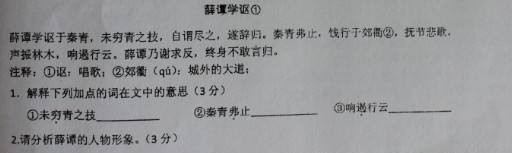text: (24, 101, 460, 123), (5, 24, 448, 42), (9, 45, 283, 60), (7, 63, 252, 77), (7, 84, 230, 98), (9, 130, 181, 146), (201, 3, 265, 17)
